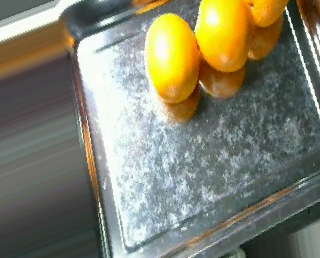Orange: (143, 11, 200, 103), (195, 1, 253, 72)
